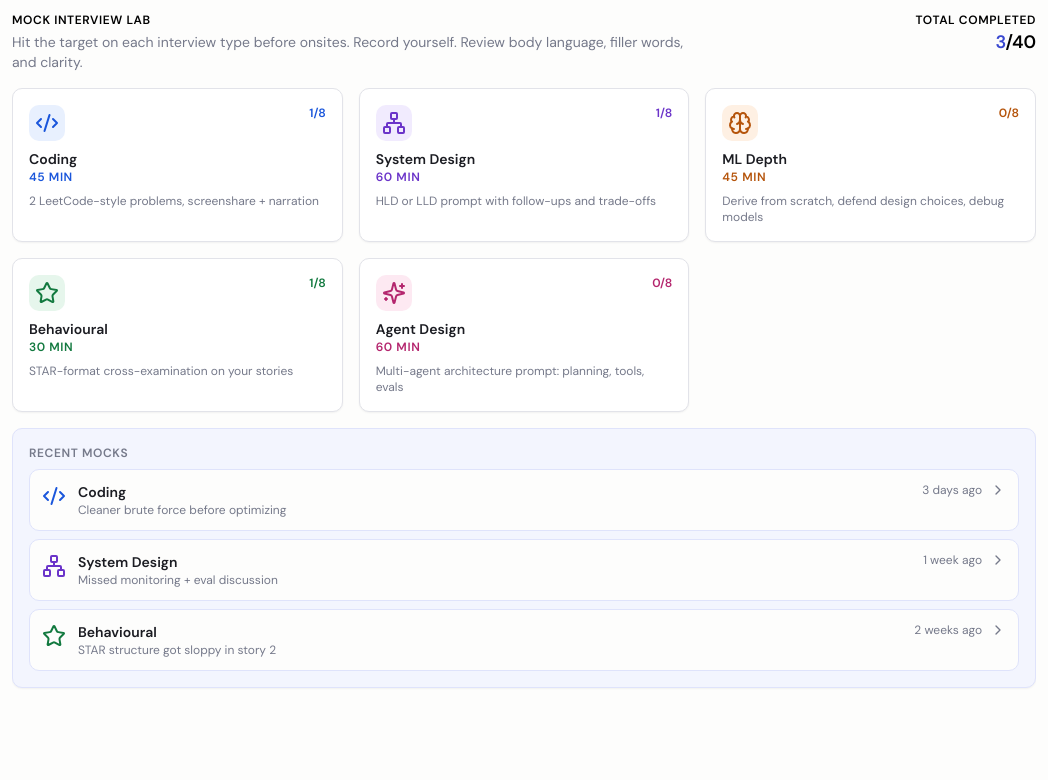
Scenario: MockInterviewLab overview › returns to the mock lab from a ready screen
Click the button with aria-label "Start Behavioural" at (47, 293), box [12, 258, 343, 412]
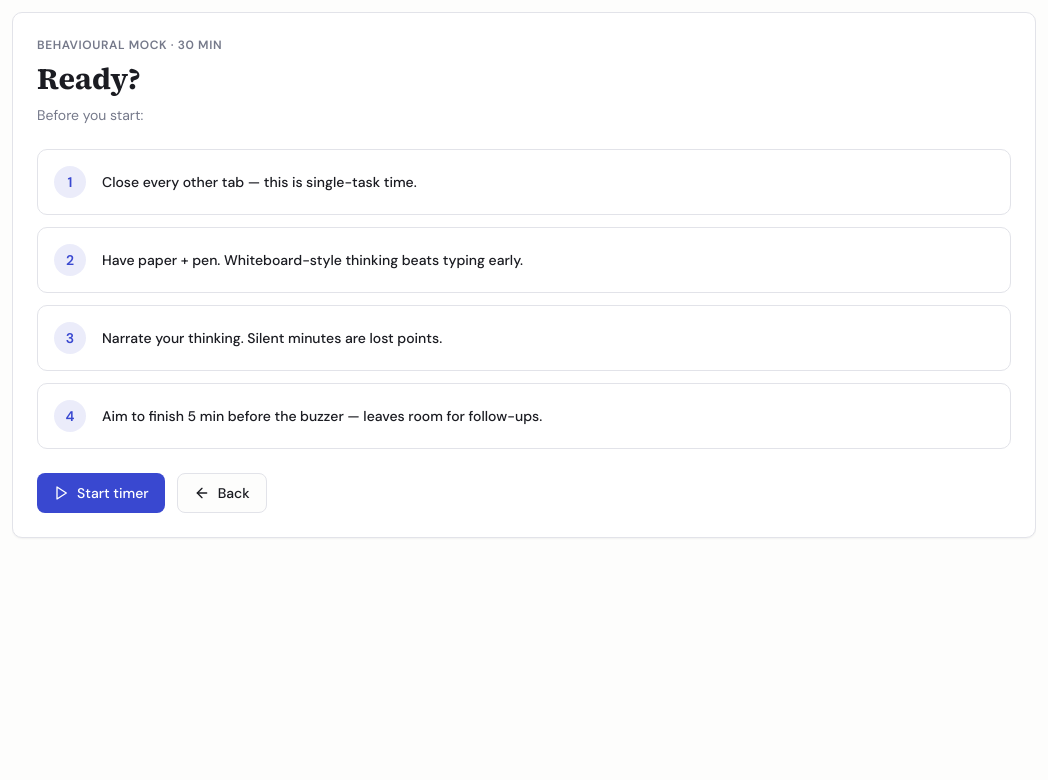
Click the button "Back" at (222, 493), box [177, 473, 266, 513]
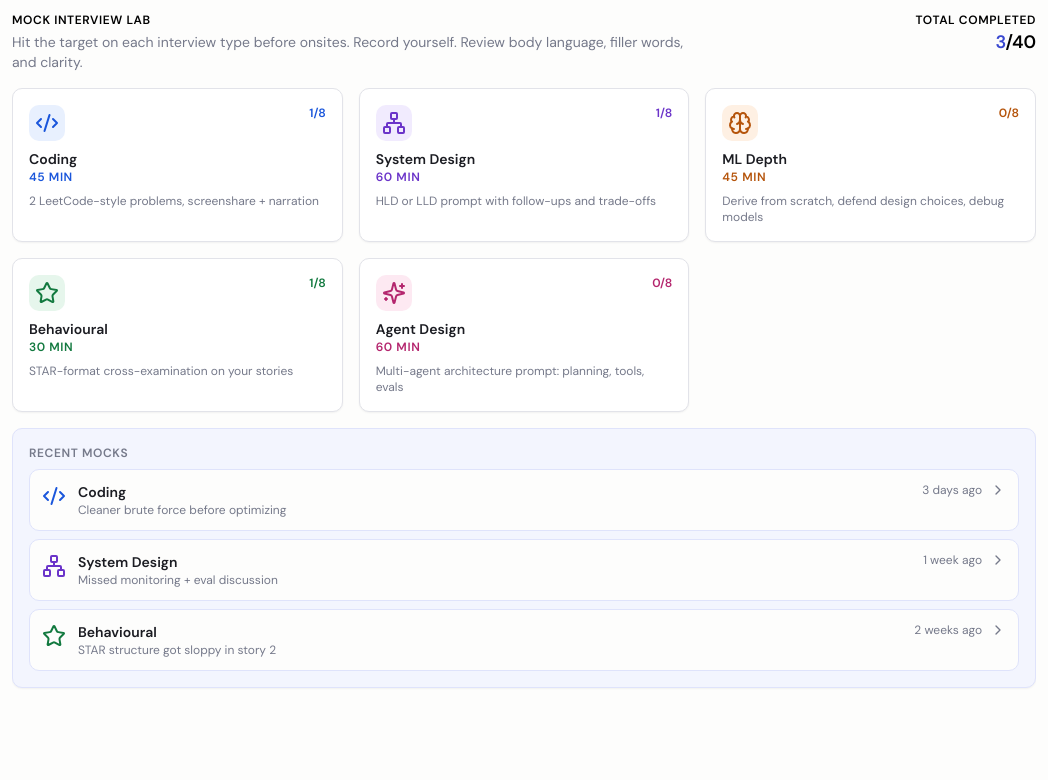
Now the text "Mock interview lab" is shown, box [12, 12, 151, 28]
